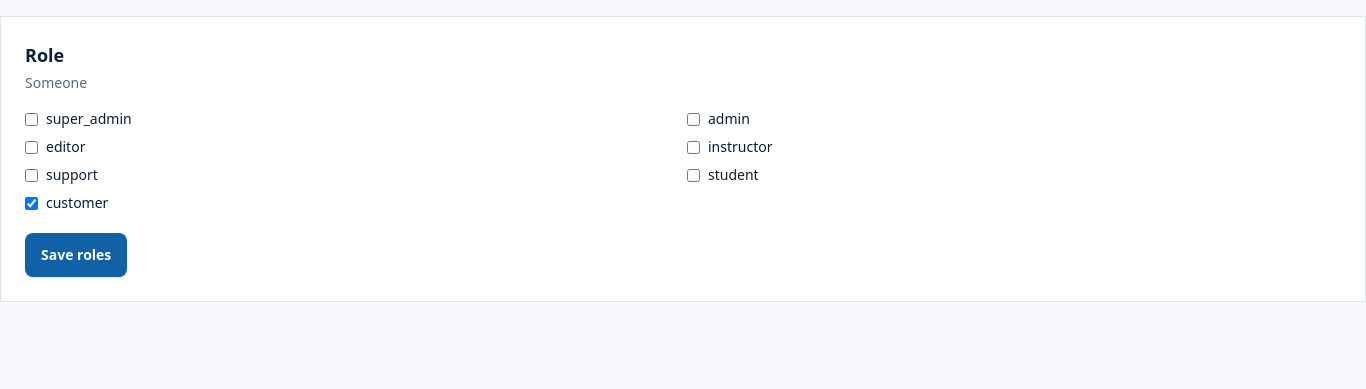
it: RoleEditor › sends the roles that are ticked
Click the checkbox labelled "admin".
click(694, 119)  # box [687,112,700,126]
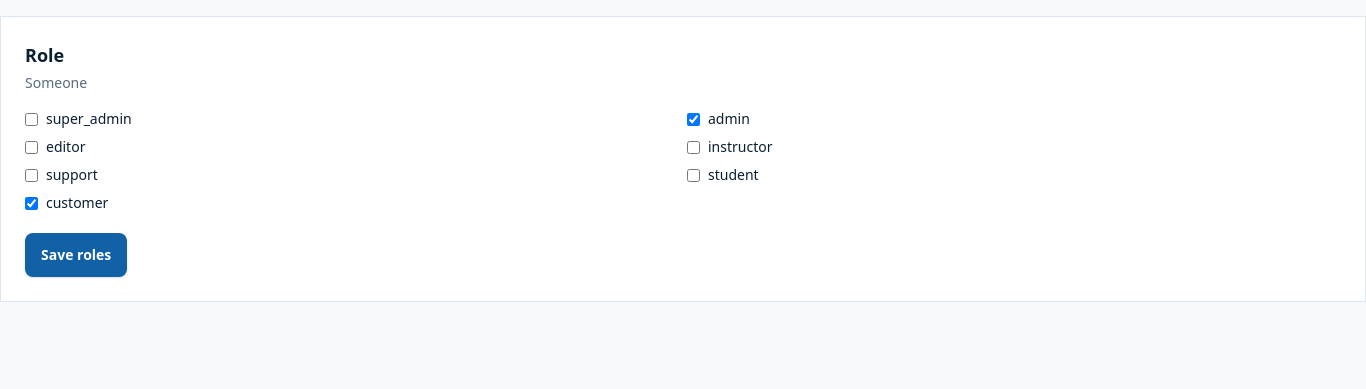
Click the button "Save roles".
click(76, 255)  # box [25,233,127,277]
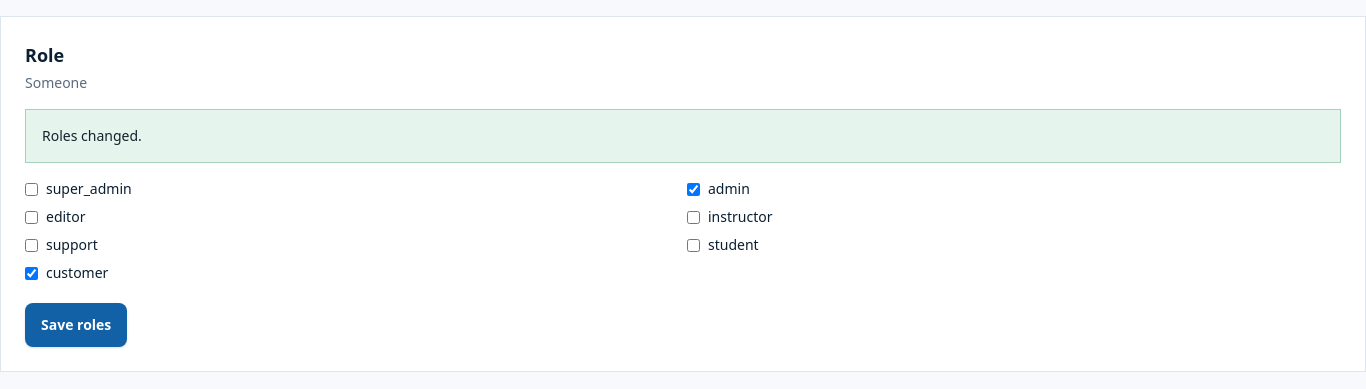
Check: the text "Roles changed." is shown, box [42,126,142,145]
